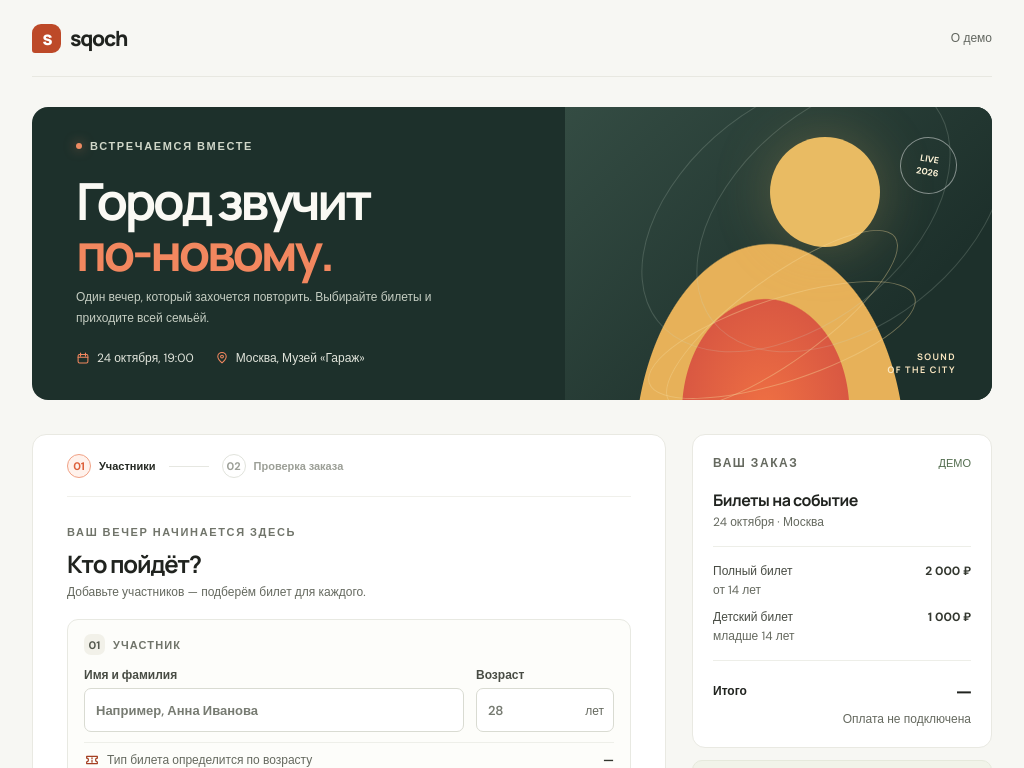
ticket booking flow › submits the details form from the keyboard
Click the field labelled "Возраст": (545, 710) [476, 688, 614, 732]
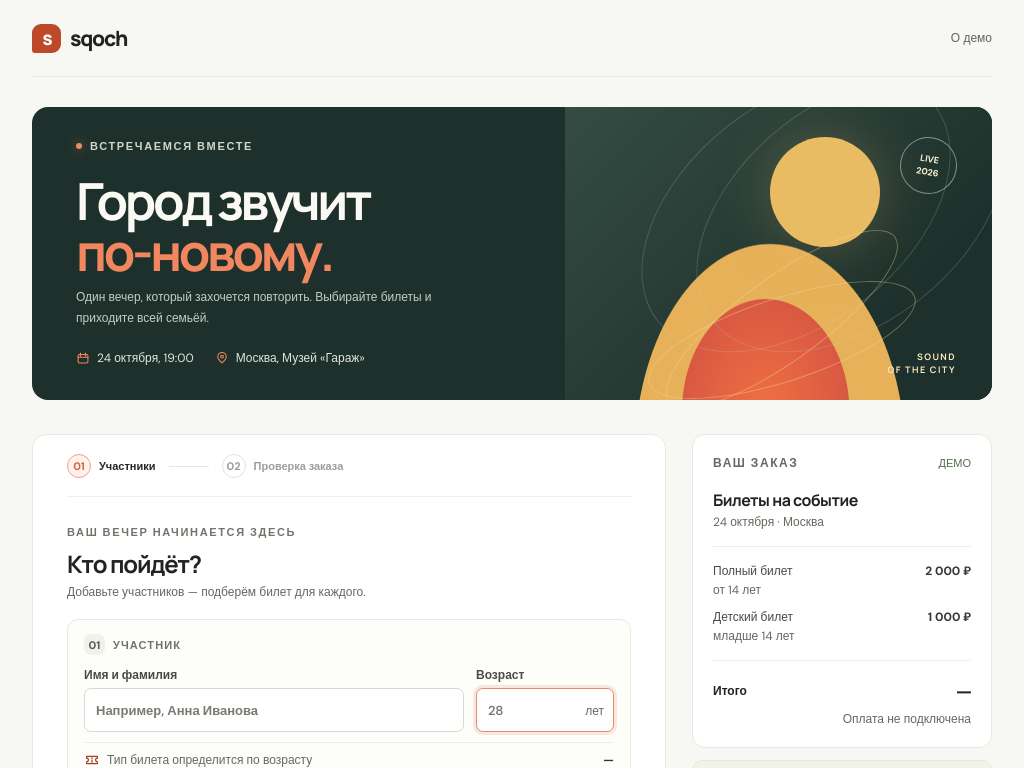
Press Enter
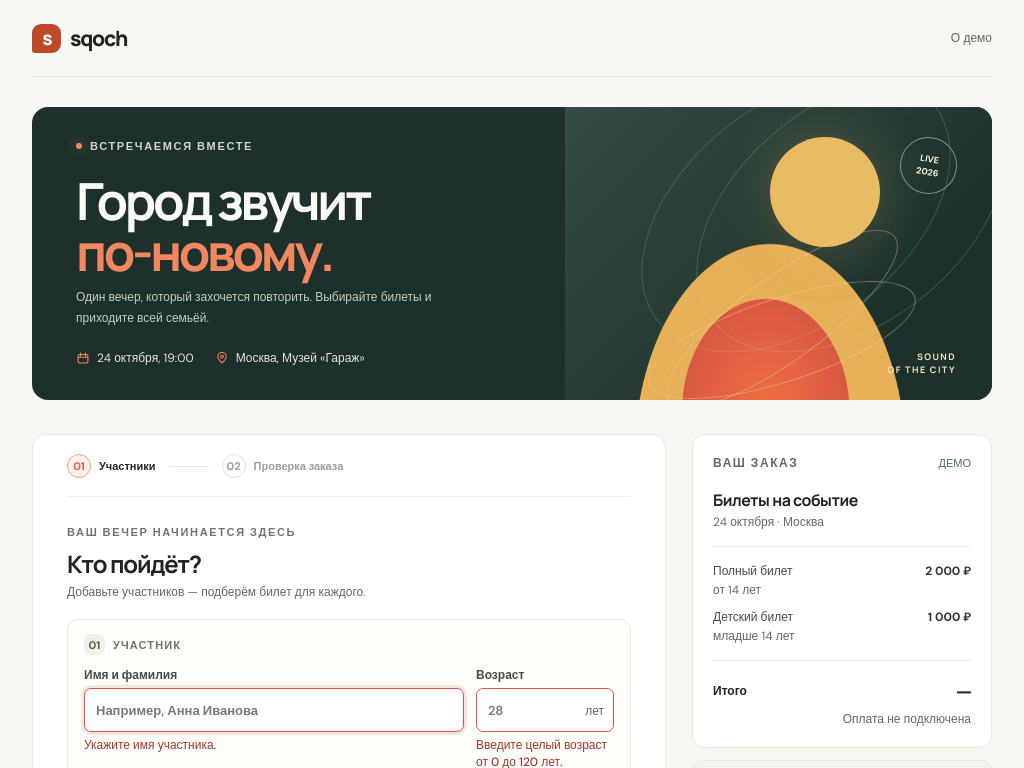
Now the text "Укажите имя участника." is shown, box [84, 737, 216, 753]
